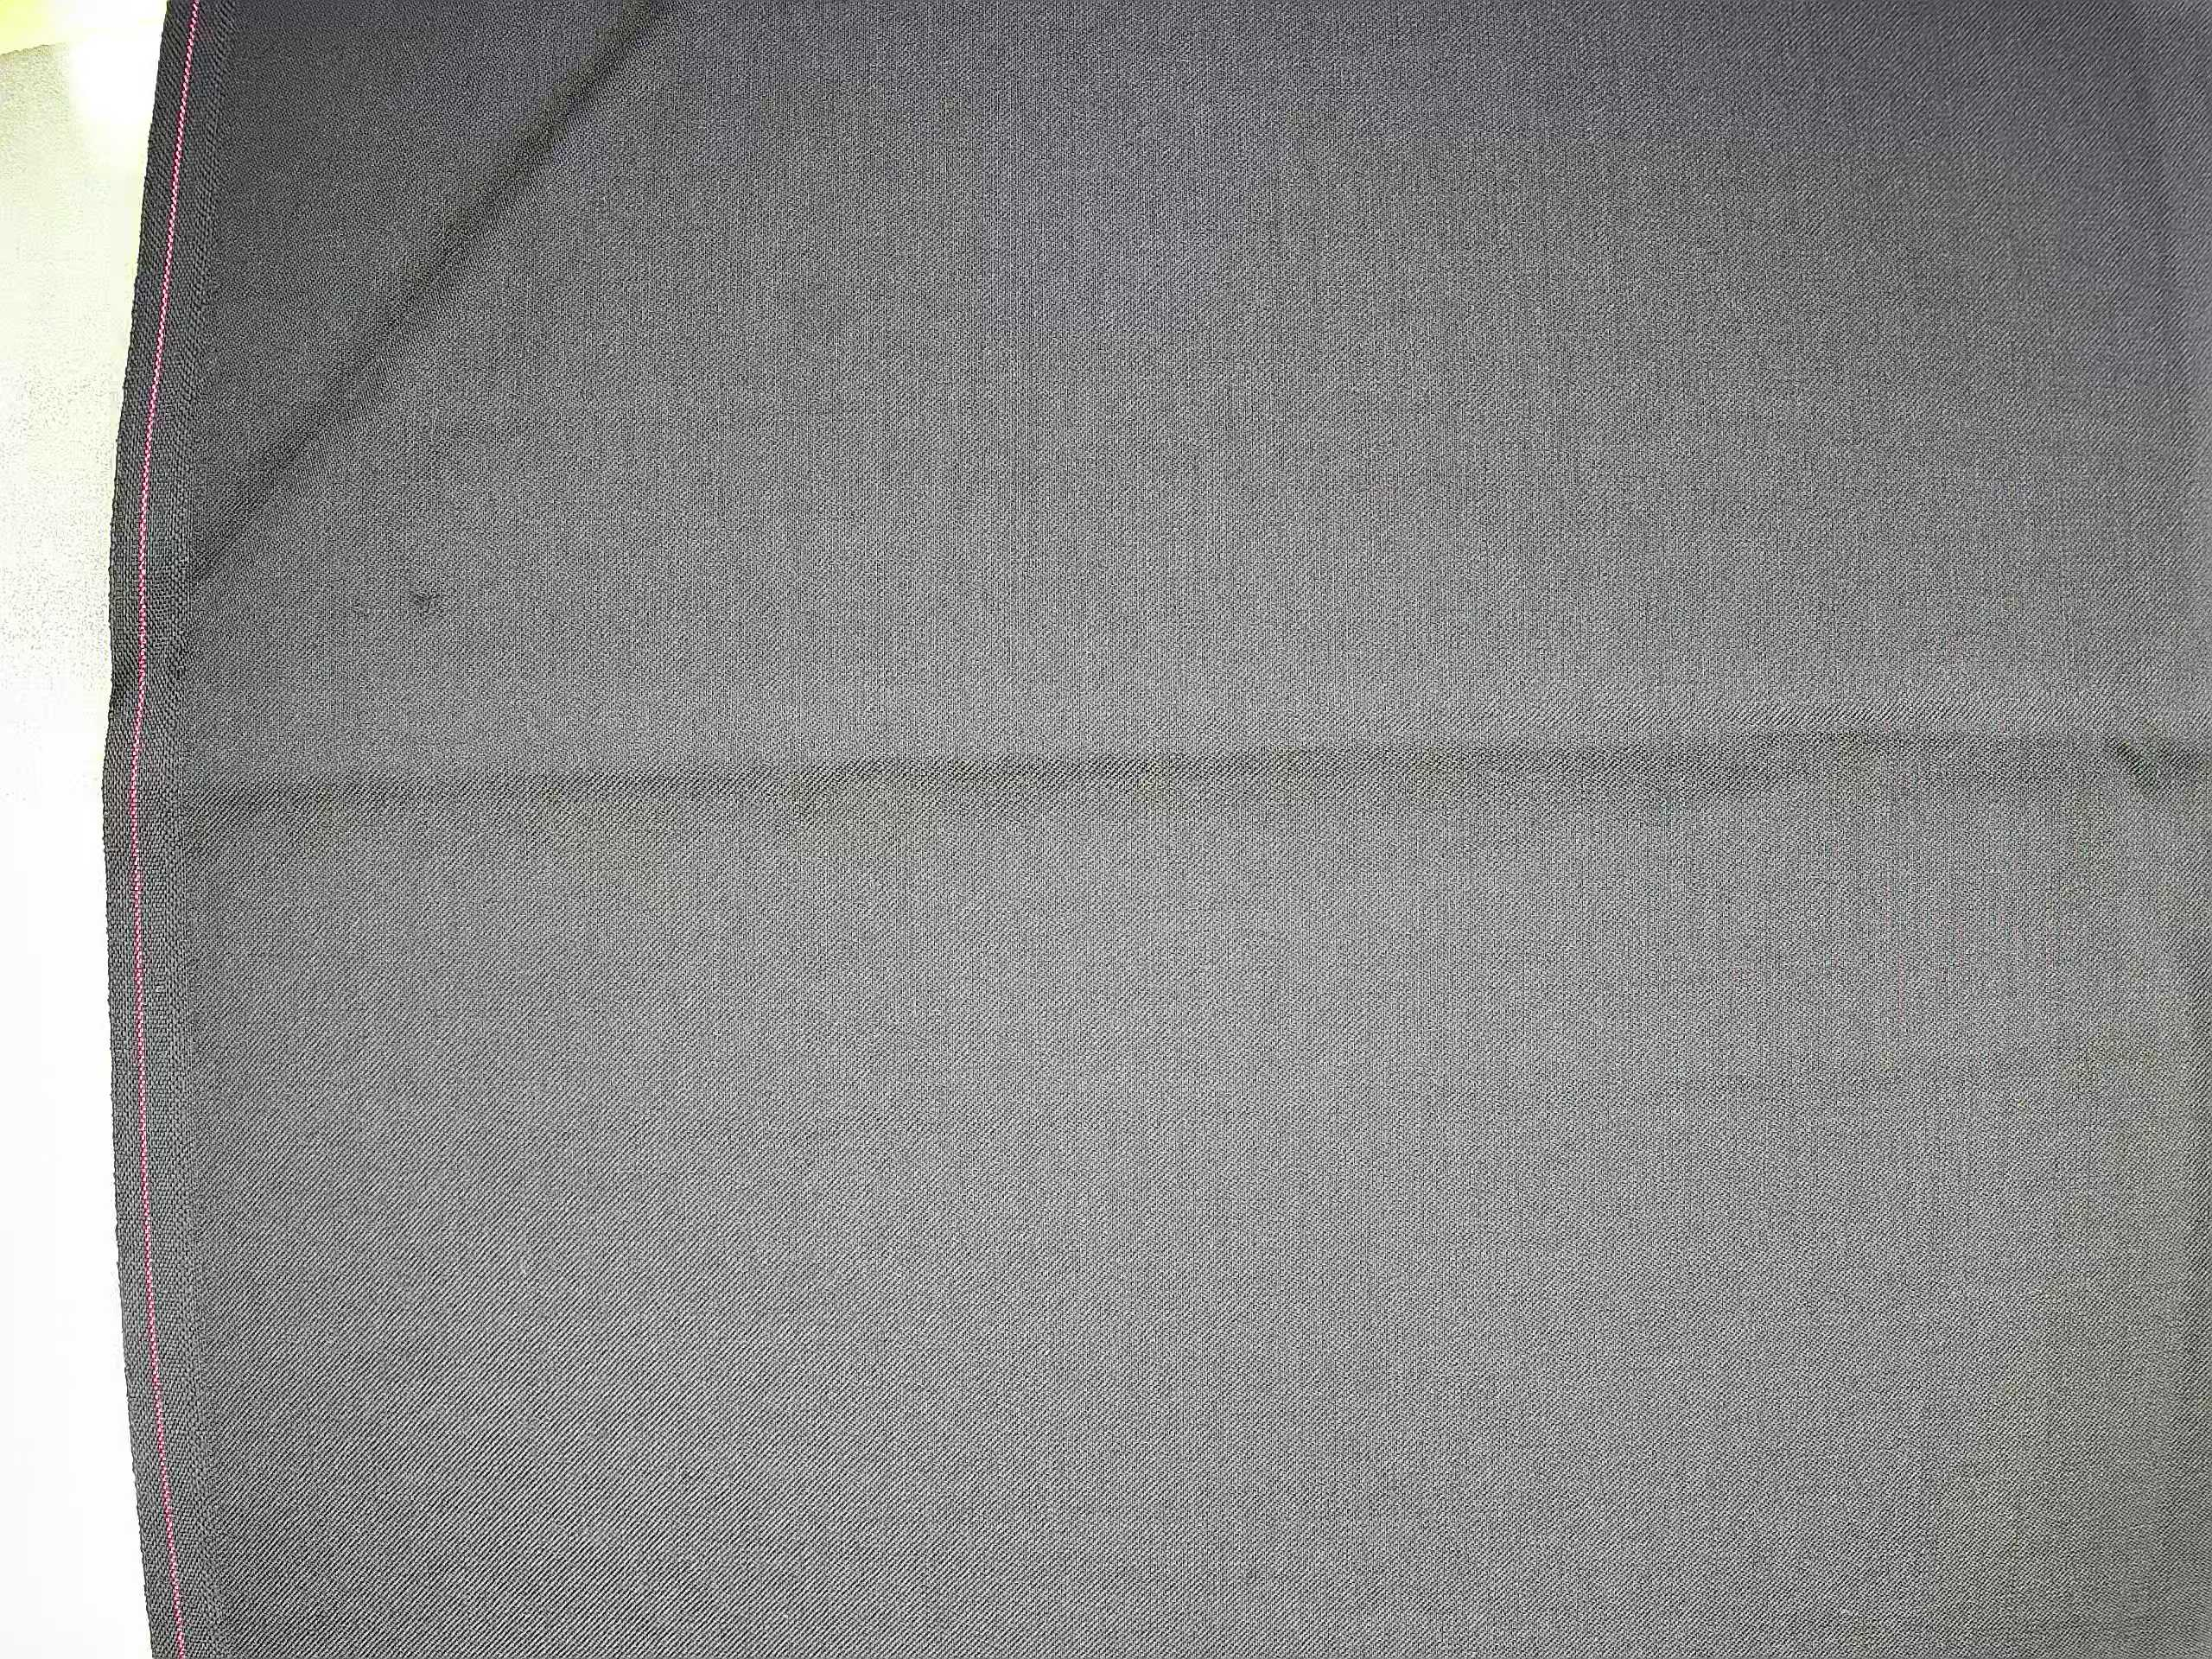others: (333, 556, 481, 640)
